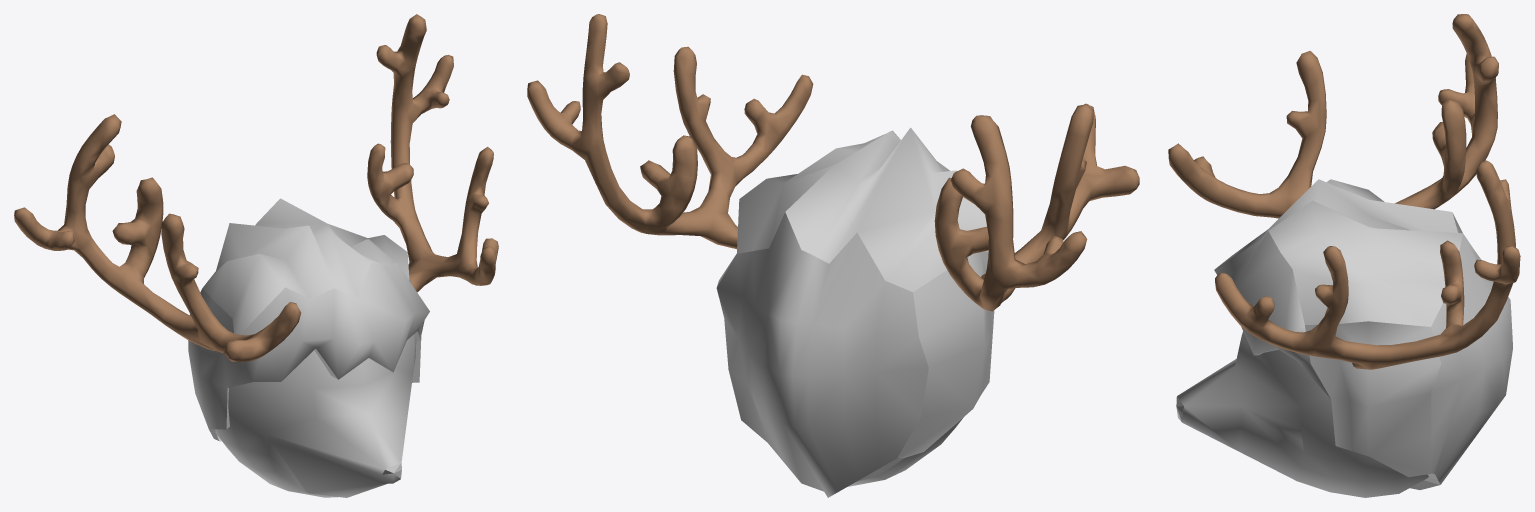
File: mooseyhead.obj
3 renders of one model, left to right at view 1: azimuth 30°, elevation 25°; view 2: azimuth 150°, elevation 25°; view 3: azimuth 270°, elevation 25°, orthographic. The views are drawn at different scales.
Parts seen in each view (by area): view 1: Mii.005; view 2: Mii.005; view 3: Mii.005.
Part boxes in pixels (x1,y1,x2,y2): Mii.005: (14, 14, 498, 497); Mii.005: (527, 14, 1139, 497); Mii.005: (1168, 14, 1520, 497).
Bounding box in the file's own units: 194 × 160 × 121.
